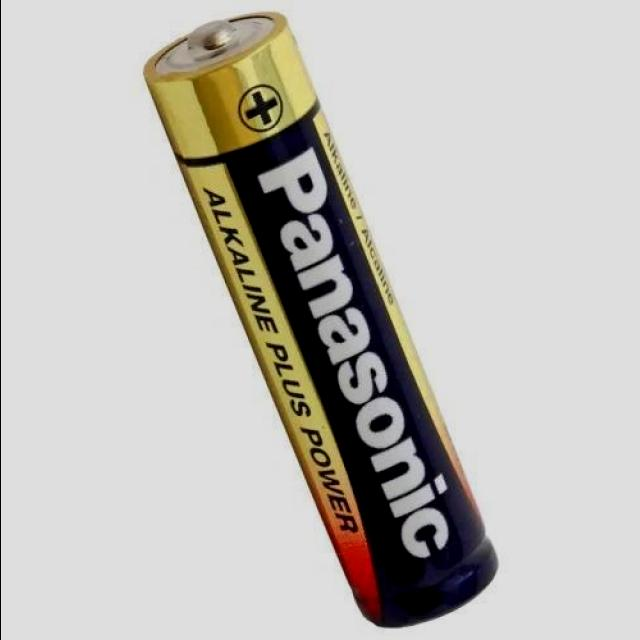AA: (138, 11, 504, 633)
